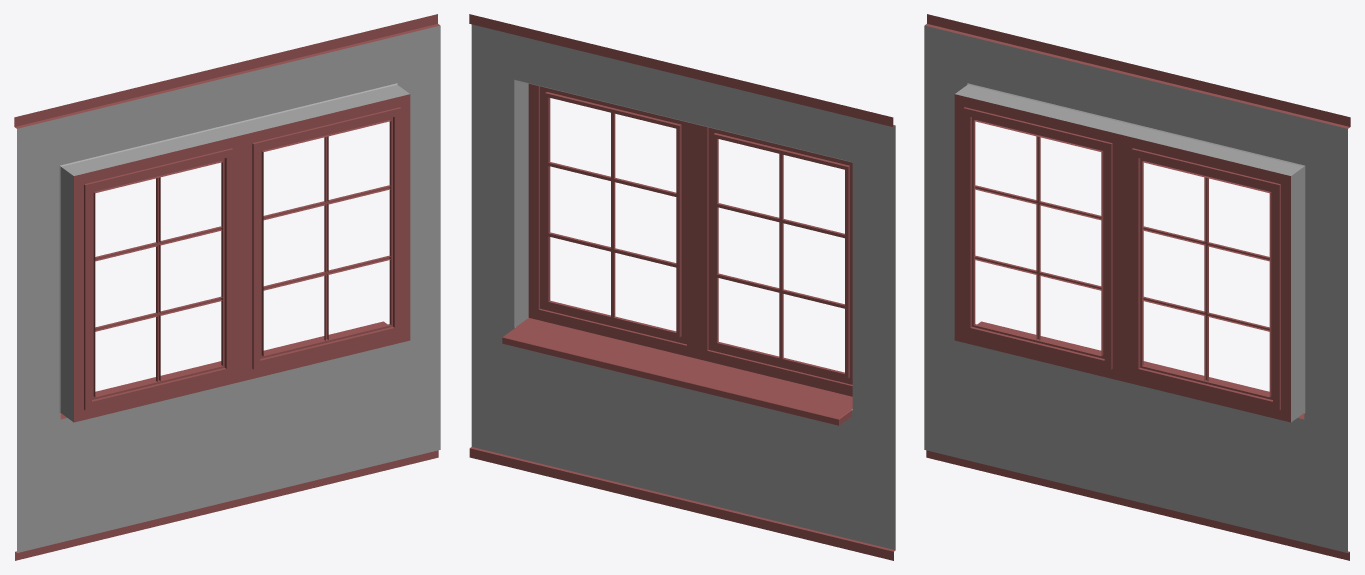
The model's file is Prop_WallIntWindow2.5x2.5_01.fbx.
3 views of the same model, side by side, from view 1: azimuth 30°, elevation 25°; view 2: azimuth 150°, elevation 25°; view 3: azimuth 330°, elevation 25° (orthographic).
Parts seen in each view (by area): view 1: polySurface41; view 2: polySurface41; view 3: polySurface41.
Boxes of the visible parts, bbox=[...] form: polySurface41: bbox=[14, 14, 440, 560]; polySurface41: bbox=[469, 14, 895, 560]; polySurface41: bbox=[924, 14, 1350, 560].
Bounding box in the file's own units: 2.5 × 2.5 × 0.2838.
